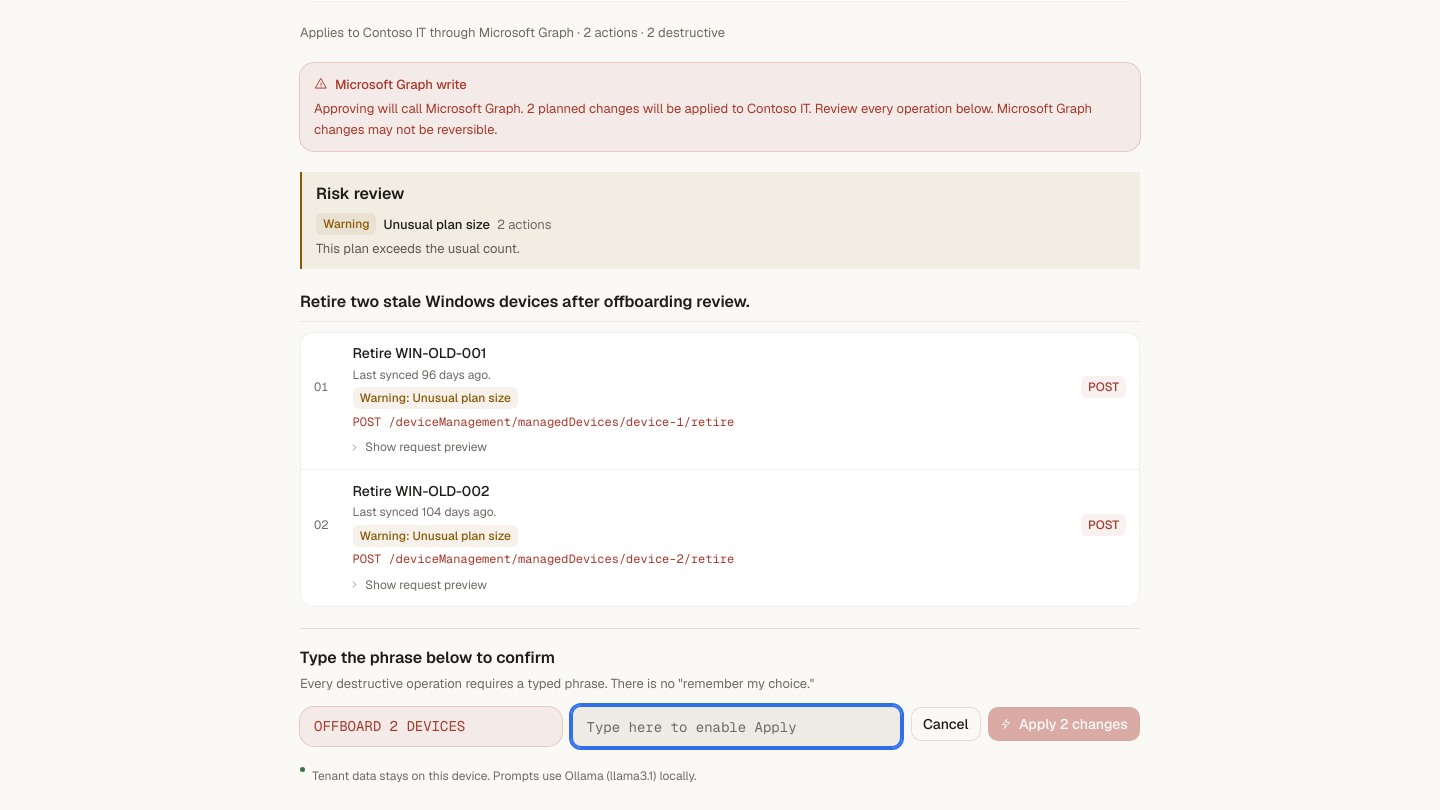
Scenario: RunResult write confirmation › keeps warning flags informational
(page scrolled)
Expected: the text "Unusual plan size" is shown, [384,216,490,233]
Type "OFFBOARD 2 DEVICES" into the field with placeholder "Type here to enable Apply" at {"x": 736, "y": 727}, box [573,707,900,746]
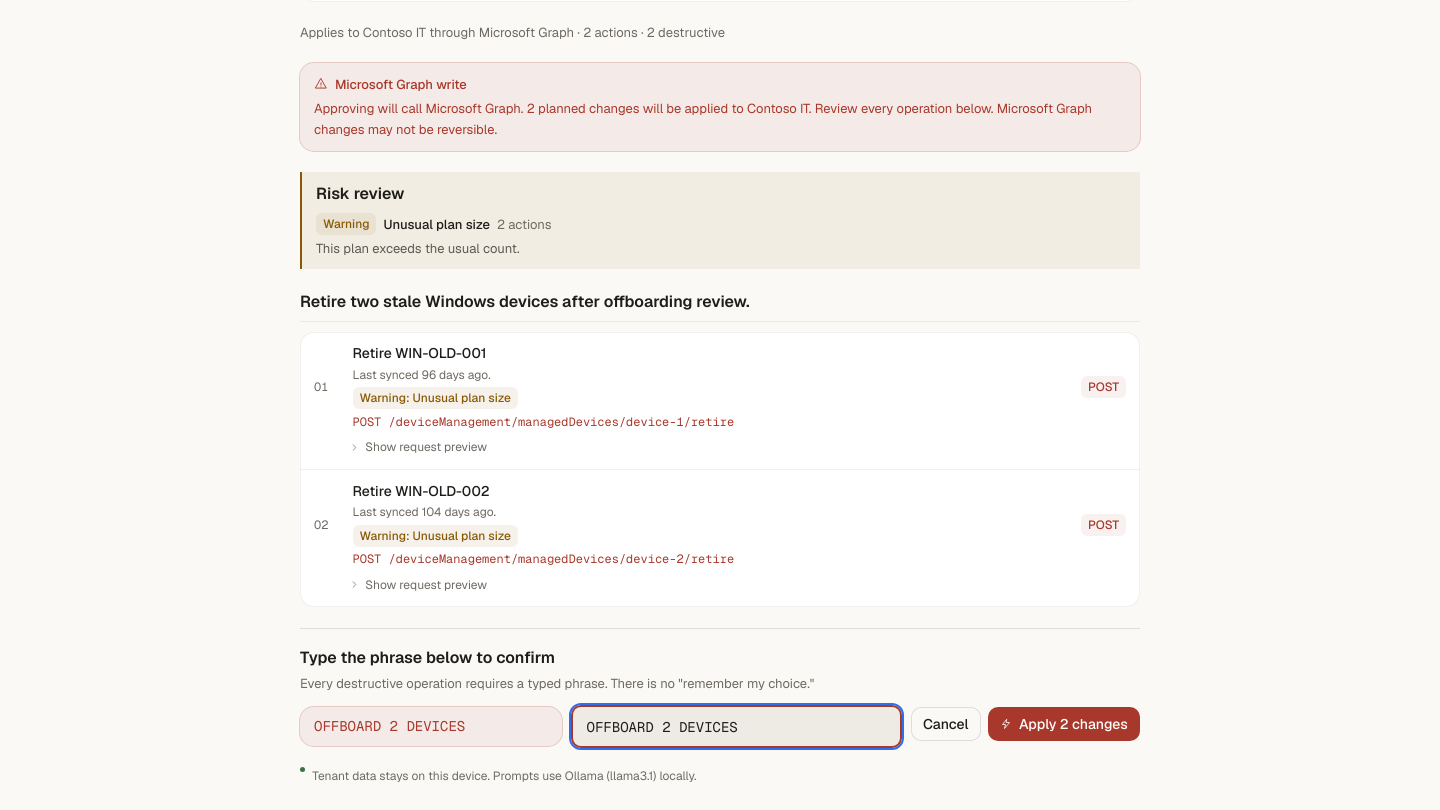
Now the button "Apply 2 changes" is enabled, box [988,707,1140,741]
